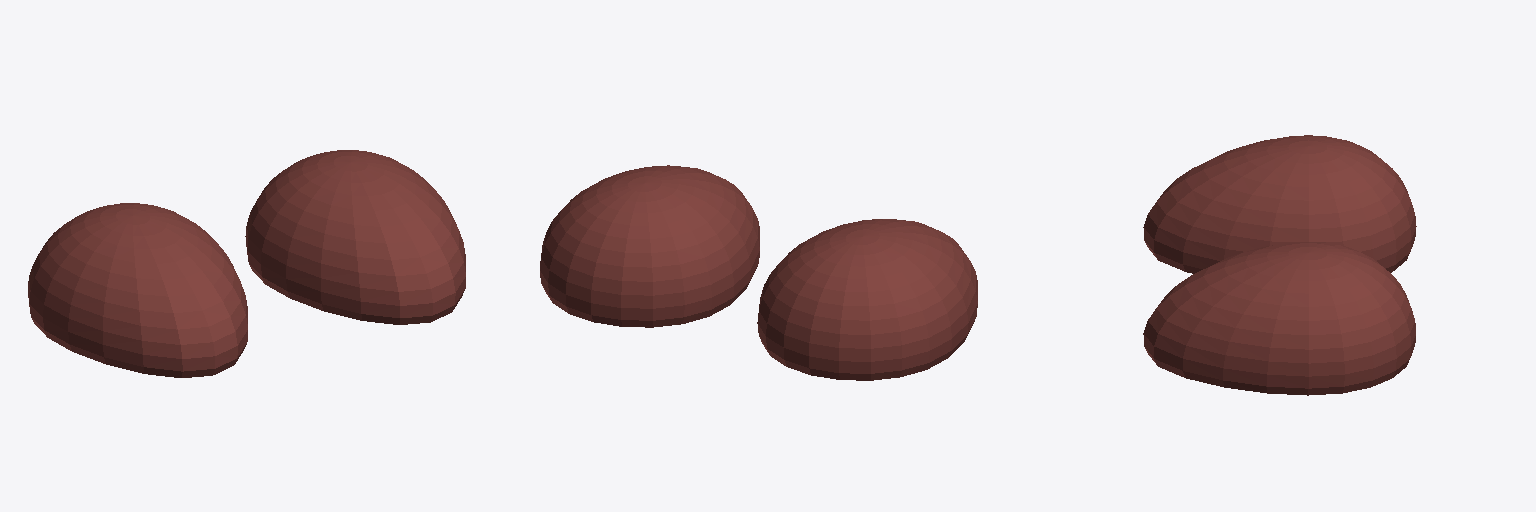
Rendered from momo_leg.obj.
The picture shows the model from 3 angles: view 1: azimuth 30°, elevation 25°; view 2: azimuth 150°, elevation 25°; view 3: azimuth 270°, elevation 25°; orthographic projection.
Parts seen in each view (by area): view 1: pSphere2, pSphere3; view 2: pSphere3, pSphere2; view 3: pSphere2, pSphere3.
Boxes of the visible parts, box(x1,y1,x2,y2) form: pSphere2: box(245, 150, 465, 324); pSphere3: box(28, 203, 247, 377); pSphere3: box(757, 219, 977, 380); pSphere2: box(540, 165, 759, 327); pSphere2: box(1143, 242, 1415, 395); pSphere3: box(1143, 135, 1416, 273).
Bounding box in the file's own units: 2.38 × 0.6484 × 1.42.